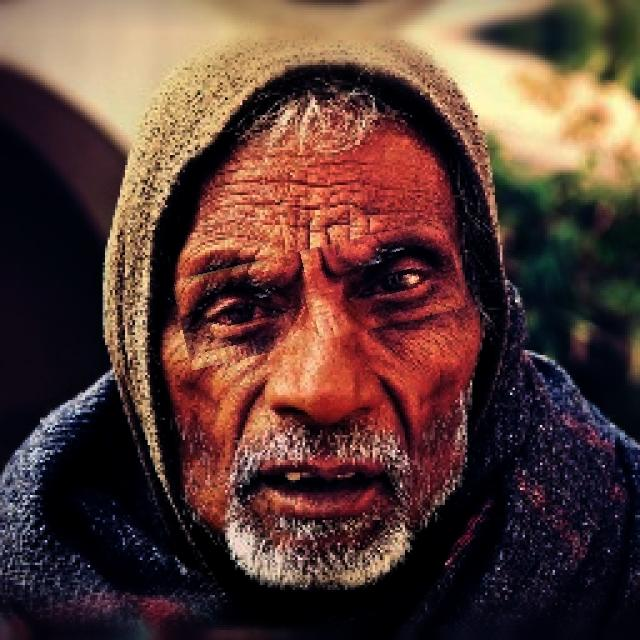no-glasses: (175, 233, 462, 355)
